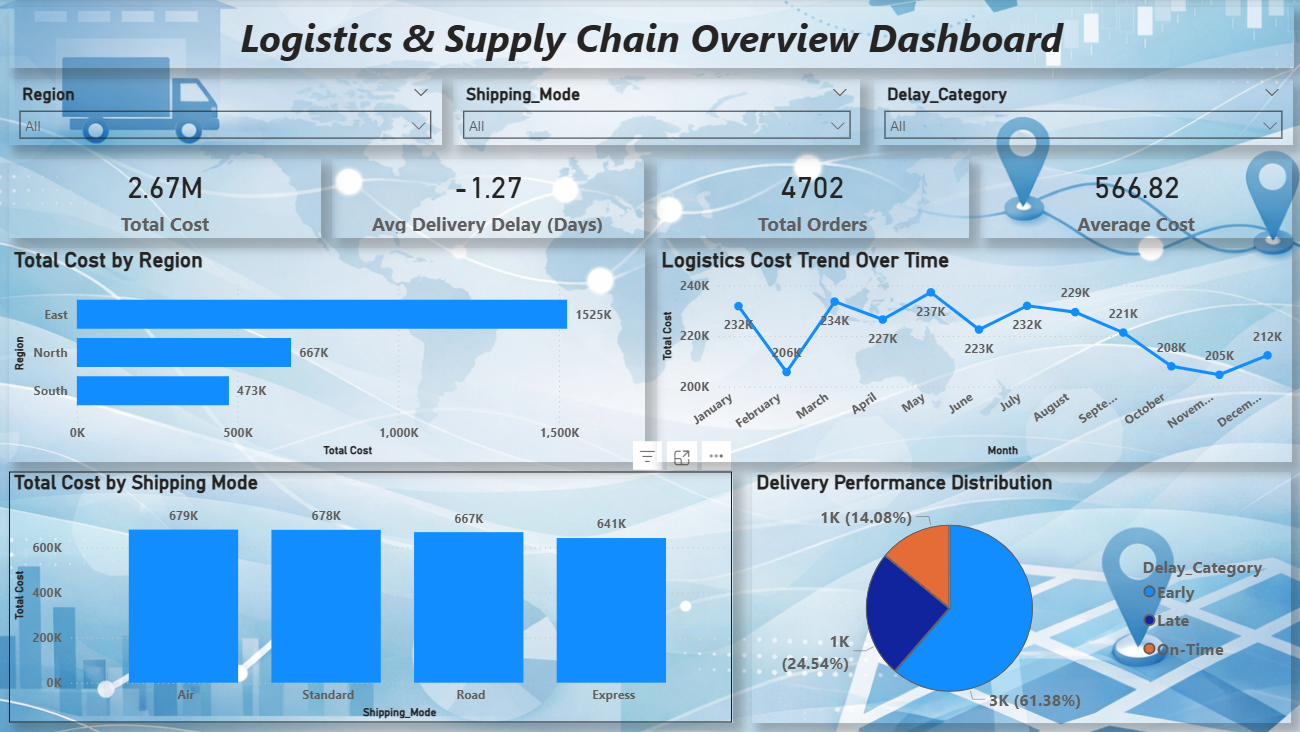

What the dashboard file says about the page in this screenshot:
{"tool":"powerbi","page":{"name":"Overview Dashboard","canvas":[1280,720],"ordinal":0},"visuals":[{"type":"card","fields":{"Values":["logistics_project logistics_view.Total Cost"]},"box":[9.5,157.3,306.5,77.3],"z":0},{"type":"card","fields":{"Values":["logistics_project logistics_view.Total Orders"]},"box":[645.6,157.3,306.5,77.3],"z":1},{"type":"card","fields":{"Values":["logistics_project logistics_view.Average Cost"]},"box":[962.9,157.3,306.5,77.3],"z":2},{"type":"card","fields":{"Values":["logistics_project logistics_view.Average Delay"]},"box":[326.4,156.9,306.6,77.7],"z":3},{"type":"textbox","box":[9.5,6.8,1261.3,59.7],"z":4},{"type":"clusteredBarChart","title":"Total Cost by Region","fields":{"Category":["logistics_project logistics_view.Region"],"Y":["logistics_project logistics_view.Total Cost"]},"box":[9.5,244.1,623.9,210.2],"z":5},{"type":"clusteredColumnChart","title":"Total Cost by Shipping Mode","fields":{"Category":["logistics_project logistics_view.Shipping_Mode"],"Y":["logistics_project logistics_view.Total Cost"]},"box":[9.9,463.5,710.8,247.3],"z":6},{"type":"pieChart","title":"Delivery Performance Distribution","fields":{"Category":["logistics_project logistics_view.Delay_Category"],"Y":["logistics_project logistics_view.Total Orders"]},"box":[739.1,463.5,529.9,247.3],"z":7},{"type":"lineChart","title":"Logistics Cost Trend Over Time","fields":{"Category":["logistics_project logistics_view.Order_Date.Variation.Date Hierarchy.Month"],"Y":["logistics_project logistics_view.Total Cost"]},"box":[645.6,244.1,623.9,210.2],"z":8},{"type":"slicer","fields":{"Values":["logistics_project logistics_view.Region"]},"box":[9.5,78.7,424.5,65.1],"z":9},{"type":"slicer","fields":{"Values":["logistics_project logistics_view.Shipping_Mode"]},"box":[444.8,78.7,400.1,65.1],"z":10},{"type":"slicer","fields":{"Values":["logistics_project logistics_view.Delay_Category"]},"box":[858.5,78.7,410.9,65.1],"z":11}]}

Visuals, with their boxes in screenshot pixels (x1, y1, x2, y2), scaled from the page's 1280x720 canvas onto the 1300x732 screenshot:
card - logistics_project logistics_view.Total Cost: pyautogui.locateOnScreen(10, 160, 321, 239)
card - logistics_project logistics_view.Total Orders: pyautogui.locateOnScreen(656, 160, 967, 239)
card - logistics_project logistics_view.Average Cost: pyautogui.locateOnScreen(978, 160, 1289, 239)
card - logistics_project logistics_view.Average Delay: pyautogui.locateOnScreen(332, 160, 643, 239)
textbox: pyautogui.locateOnScreen(10, 7, 1291, 68)
"Total Cost by Region" clusteredBarChart: pyautogui.locateOnScreen(10, 248, 643, 462)
"Total Cost by Shipping Mode" clusteredColumnChart: pyautogui.locateOnScreen(10, 471, 732, 723)
"Delivery Performance Distribution" pieChart: pyautogui.locateOnScreen(751, 471, 1289, 723)
"Logistics Cost Trend Over Time" lineChart: pyautogui.locateOnScreen(656, 248, 1289, 462)
slicer - logistics_project logistics_view.Region: pyautogui.locateOnScreen(10, 80, 441, 146)
slicer - logistics_project logistics_view.Shipping_Mode: pyautogui.locateOnScreen(452, 80, 858, 146)
slicer - logistics_project logistics_view.Delay_Category: pyautogui.locateOnScreen(872, 80, 1289, 146)
